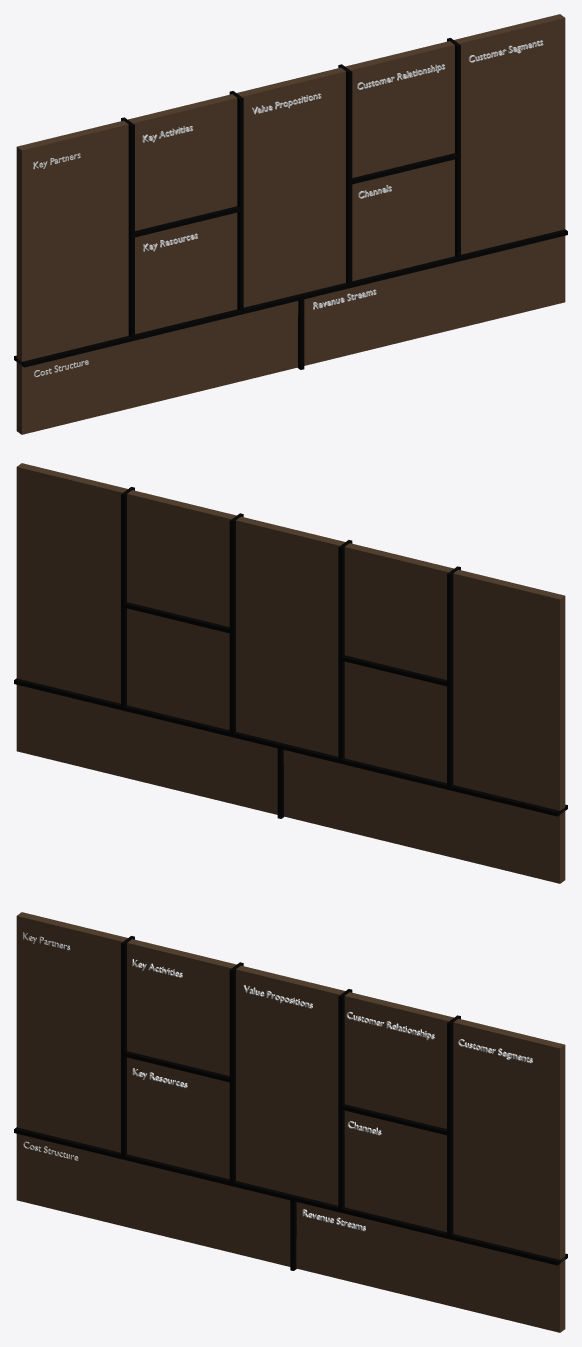
The model's file is business-model-canvas.glb.
3 views of the same model, one above another, from view 1: azimuth 30°, elevation 25°; view 2: azimuth 150°, elevation 25°; view 3: azimuth 330°, elevation 25° (orthographic).
Parts seen in each view (by area): view 1: Board, Line1.005, Line1.002, Line1, Line1.001, Line1.003, Line1.007, Line1.004; view 2: Board, Line1.005, Line1, Line1.002, Line1.001, Line1.003, Line1.007, Line1.004; view 3: Board, Line1.005, Line1.001, Line1.003, Line1, Line1.002, Line1.007, Line1.004.
Part boxes in pixels (box(x1,y1,x2,y2)): Board: box(16, 14, 565, 434); Line1.005: box(14, 229, 567, 367); Line1.002: box(121, 117, 134, 338); Line1: box(338, 64, 352, 285); Line1.001: box(229, 91, 243, 312); Line1.003: box(447, 38, 460, 259); Line1.007: box(352, 153, 457, 184); Line1.004: box(135, 206, 239, 237); Board: box(16, 463, 565, 883); Line1.005: box(14, 678, 567, 816); Line1: box(229, 513, 243, 733); Line1.002: box(447, 566, 460, 786); Line1.001: box(338, 540, 352, 759); Line1.003: box(121, 487, 134, 708); Line1.007: box(123, 602, 229, 633); Line1.004: box(342, 655, 448, 686); Board: box(16, 912, 565, 1332); Line1.005: box(14, 1127, 567, 1265); Line1.001: box(229, 962, 243, 1182); Line1.003: box(447, 1015, 460, 1235); Line1: box(338, 989, 352, 1208); Line1.002: box(121, 936, 134, 1157); Line1.007: box(340, 1104, 448, 1135); Line1.004: box(124, 1051, 229, 1082).
Bounding box in the file's own units: 6 × 3.01 × 0.21.
